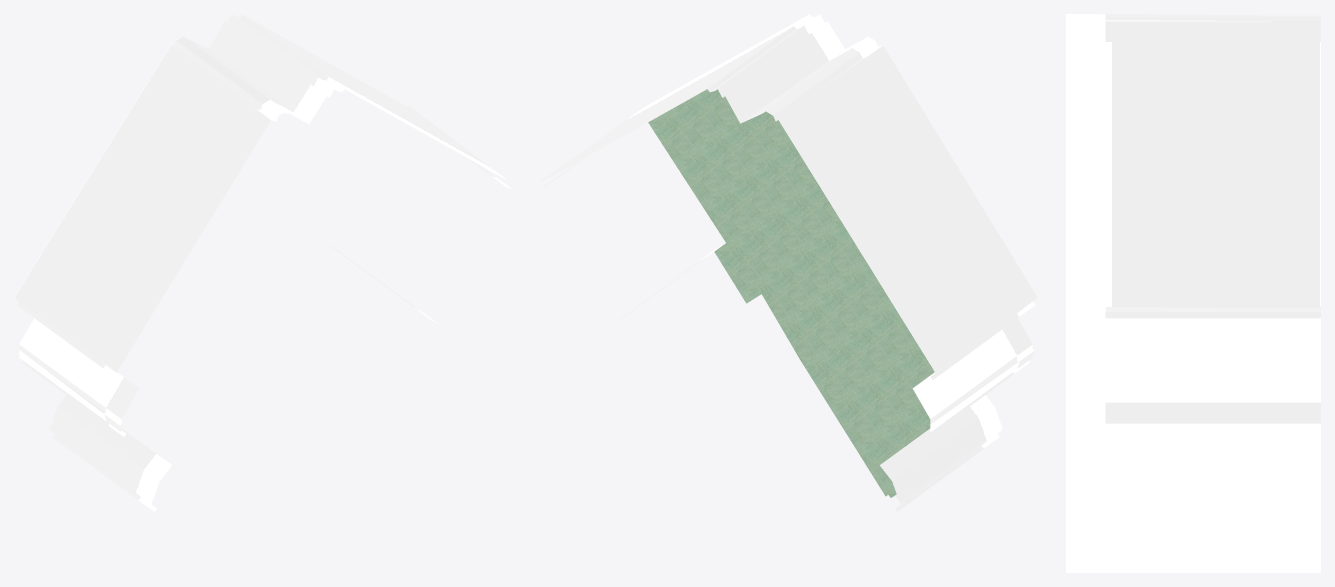
3 views of the same model, side by side, from view 1: azimuth 30°, elevation 25°; view 2: azimuth 150°, elevation 25°; view 3: azimuth 270°, elevation 25° (orthographic). The views are drawn at different scales.
Parts seen in each view (by area): view 1: BuildingMaster_1977193987474463534900000000_0; view 2: BuildingMaster_1977193987474463534900000000_0, BuildingMaster_1977193987474463534900000000_1; view 3: BuildingMaster_1977193987474463534900000000_0.
Part boxes in pixels (x1,y1,x2,y2): BuildingMaster_1977193987474463534900000000_0: (14, 14, 510, 568); BuildingMaster_1977193987474463534900000000_0: (540, 14, 1037, 568); BuildingMaster_1977193987474463534900000000_1: (648, 89, 934, 497); BuildingMaster_1977193987474463534900000000_0: (1066, 14, 1320, 572).
Bounding box in the file's own units: 39 × 44 × 17.5.
